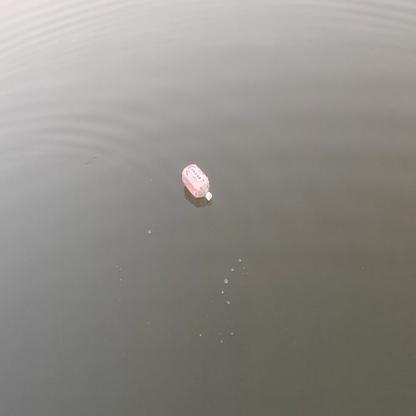plastic bottle: (180, 163, 213, 201)
